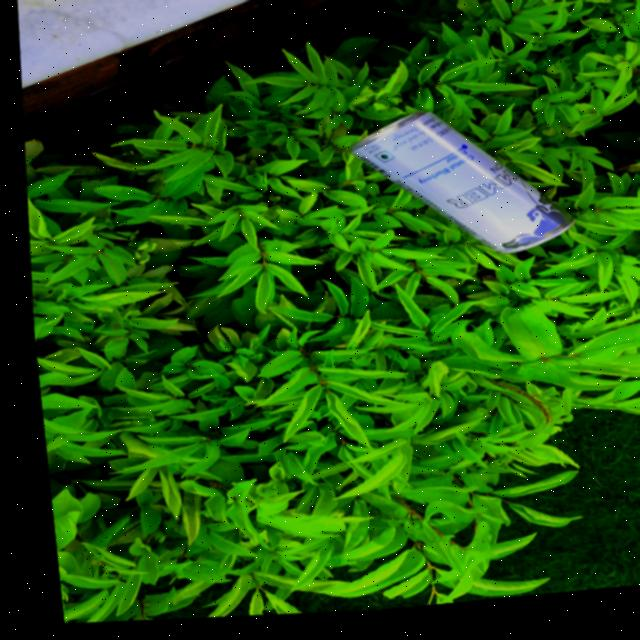Redbull Summer Edition: (332, 103, 576, 278)
